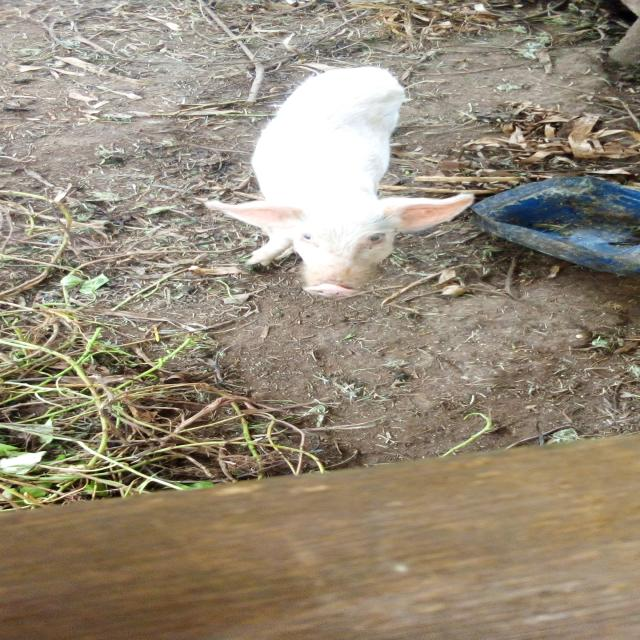pig: (149, 60, 518, 317)
